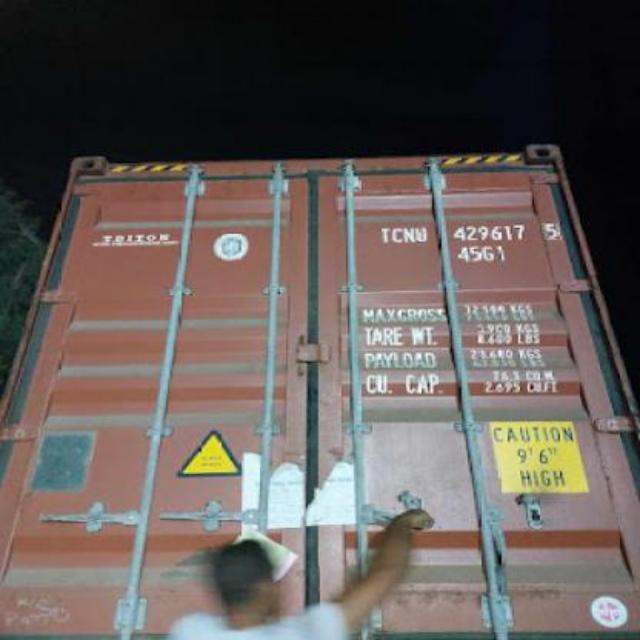1: (504, 220, 514, 243)
2: (464, 220, 478, 242)
4: (450, 219, 466, 243)
5: (540, 218, 562, 245)
6: (488, 218, 504, 245)
7: (512, 216, 528, 246)
9: (476, 219, 489, 245)
C: (392, 222, 402, 250)
N: (402, 222, 416, 250)
T: (376, 214, 392, 250)
U: (414, 222, 430, 246)
